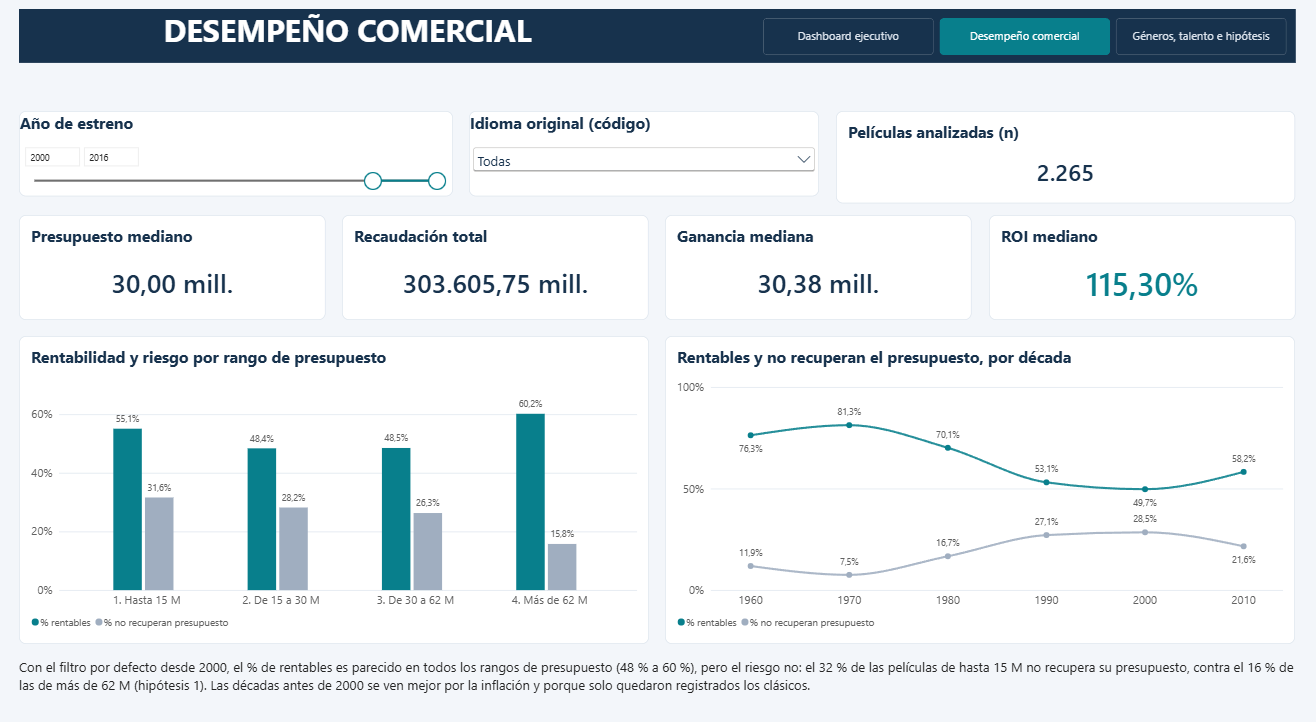

Layout of this report page (visuals, bound fields, positions):
{"tool":"powerbi","page":{"name":"Desempeño comercial","canvas":[1920,1080],"ordinal":1},"visuals":[{"type":"textbox","box":[48,22,1824,77],"z":0},{"type":"slicer","title":"Año de estreno","fields":{"Values":["dim_fecha.anio"]},"box":[48,167,620,122],"z":2000},{"type":"slicer","title":"Idioma original (código)","fields":{"Values":["dim_idioma.codigo_idioma"]},"box":[692,167,500,122],"z":3000},{"type":"card","title":"Películas analizadas (n)","fields":{"Values":["fact_peliculas.Películas"]},"box":[1215.7,167.6,655.7,131.7],"z":4000},{"type":"card","title":"Presupuesto mediano","fields":{"Values":["fact_peliculas.Presupuesto mediano"]},"box":[48,315,438,150],"z":4001},{"type":"card","title":"Recaudación total","fields":{"Values":["fact_peliculas.Recaudación total"]},"box":[510,315,438,150],"z":4002},{"type":"card","title":"ROI mediano","fields":{"Values":["fact_peliculas.ROI mediano"]},"box":[1434,315,438,150],"z":4003},{"type":"card","title":"Ganancia mediana","fields":{"Values":["fact_peliculas.Ganancia mediana"]},"box":[972,315,438,150],"z":4004},{"type":"clusteredColumnChart","title":"Rentabilidad y riesgo por rango de presupuesto","fields":{"Category":["fact_peliculas.Rango de presupuesto"],"Y":["fact_peliculas.% rentables","fact_peliculas.% no recuperan presupuesto"]},"box":[48,489,900,440],"z":4005},{"type":"lineChart","title":"Rentables y no recuperan el presupuesto, por década","fields":{"Category":["dim_fecha.decada","dim_fecha.anio","dim_fecha.nombre_mes"],"Y":["fact_peliculas.% rentables","fact_peliculas.% no recuperan presupuesto"]},"box":[972,489,900,440],"z":4006},{"type":"textbox","box":[48,948,1824,105],"z":4007},{"type":"pageNavigator","box":[1112,34,748,53],"z":5000}]}

Visuals, with their boxes in screenshot pixels (x1, y1, x2, y2), scaled from the page's 1920x1080 canvas onto the 1316x722 screenshot:
textbox: x1=33 y1=15 x2=1283 y2=66
"Año de estreno" slicer: x1=33 y1=112 x2=458 y2=193
"Idioma original (código)" slicer: x1=474 y1=112 x2=817 y2=193
"Películas analizadas (n)" card: x1=833 y1=112 x2=1283 y2=200
"Presupuesto mediano" card: x1=33 y1=211 x2=333 y2=311
"Recaudación total" card: x1=350 y1=211 x2=650 y2=311
"ROI mediano" card: x1=983 y1=211 x2=1283 y2=311
"Ganancia mediana" card: x1=666 y1=211 x2=966 y2=311
"Rentabilidad y riesgo por rango de presupuesto" clusteredColumnChart: x1=33 y1=327 x2=650 y2=621
"Rentables y no recuperan el presupuesto, por década" lineChart: x1=666 y1=327 x2=1283 y2=621
textbox: x1=33 y1=634 x2=1283 y2=704
pageNavigator: x1=762 y1=23 x2=1275 y2=58
